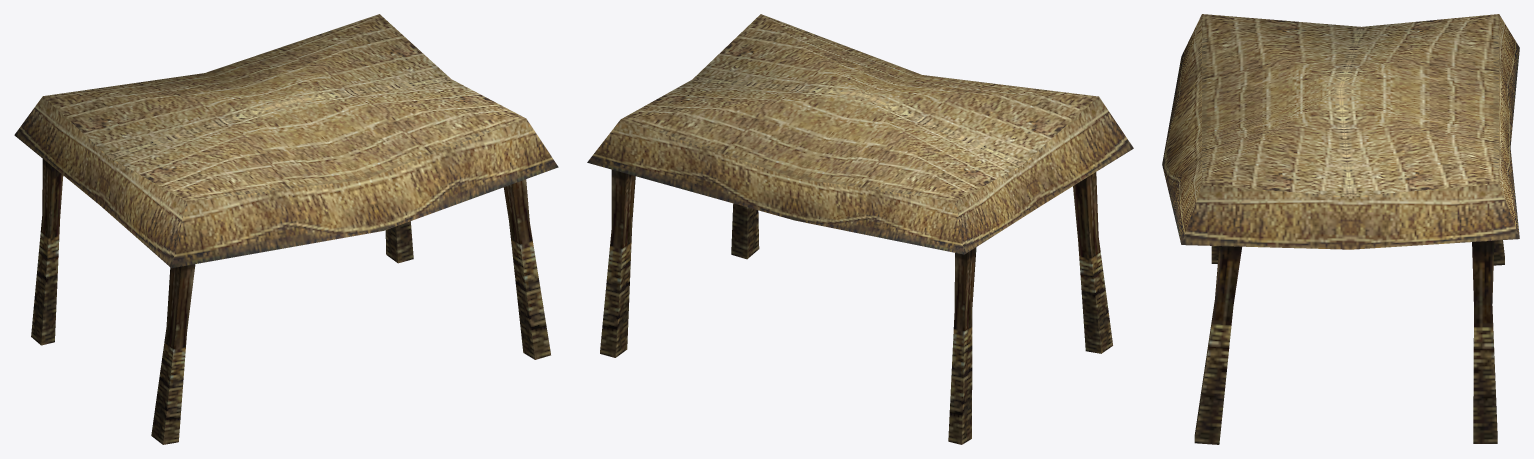
File: b_general_obj_07.fbx
The picture shows the model from 3 angles, left to right: view 1: azimuth 30°, elevation 25°; view 2: azimuth 150°, elevation 25°; view 3: azimuth 270°, elevation 25°; orthographic projection. The views are drawn at different scales.
Visible parts, largest first — view 1: Object01; view 2: Object01; view 3: Object01.
Boxes of the visible parts, x1,y1,x2,y2 form: Object01: [14, 14, 558, 444]; Object01: [587, 14, 1133, 444]; Object01: [1162, 14, 1519, 444].
Size of the model in its own units: 4.57 by 2.85 by 3.54.
